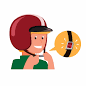helmets: (9, 14, 52, 53)
